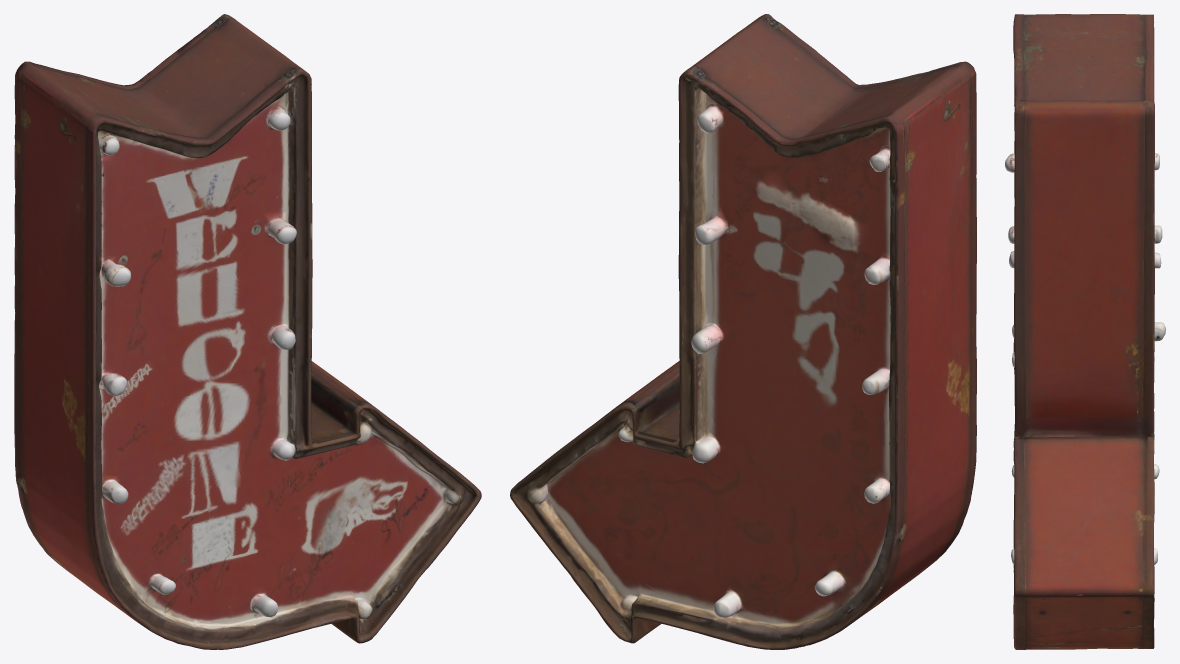
Rendered from Welcome_Arrow_Sign_0717232009_texture.fbx.
3 renders of one model, left to right at view 1: azimuth 30°, elevation 25°; view 2: azimuth 150°, elevation 25°; view 3: azimuth 270°, elevation 25°, orthographic. The views are drawn at different scales.
Parts seen in each view (by area): view 1: Mesh_0; view 2: Mesh_0; view 3: Mesh_0.
Part boxes in pixels (bbox=[...]): Mesh_0: bbox=[14, 14, 481, 649]; Mesh_0: bbox=[510, 14, 976, 649]; Mesh_0: bbox=[1005, 14, 1165, 649].
Size of the model in its own units: 139 by 200 by 56.02.
Materials: 1 (1 with a texture image).
